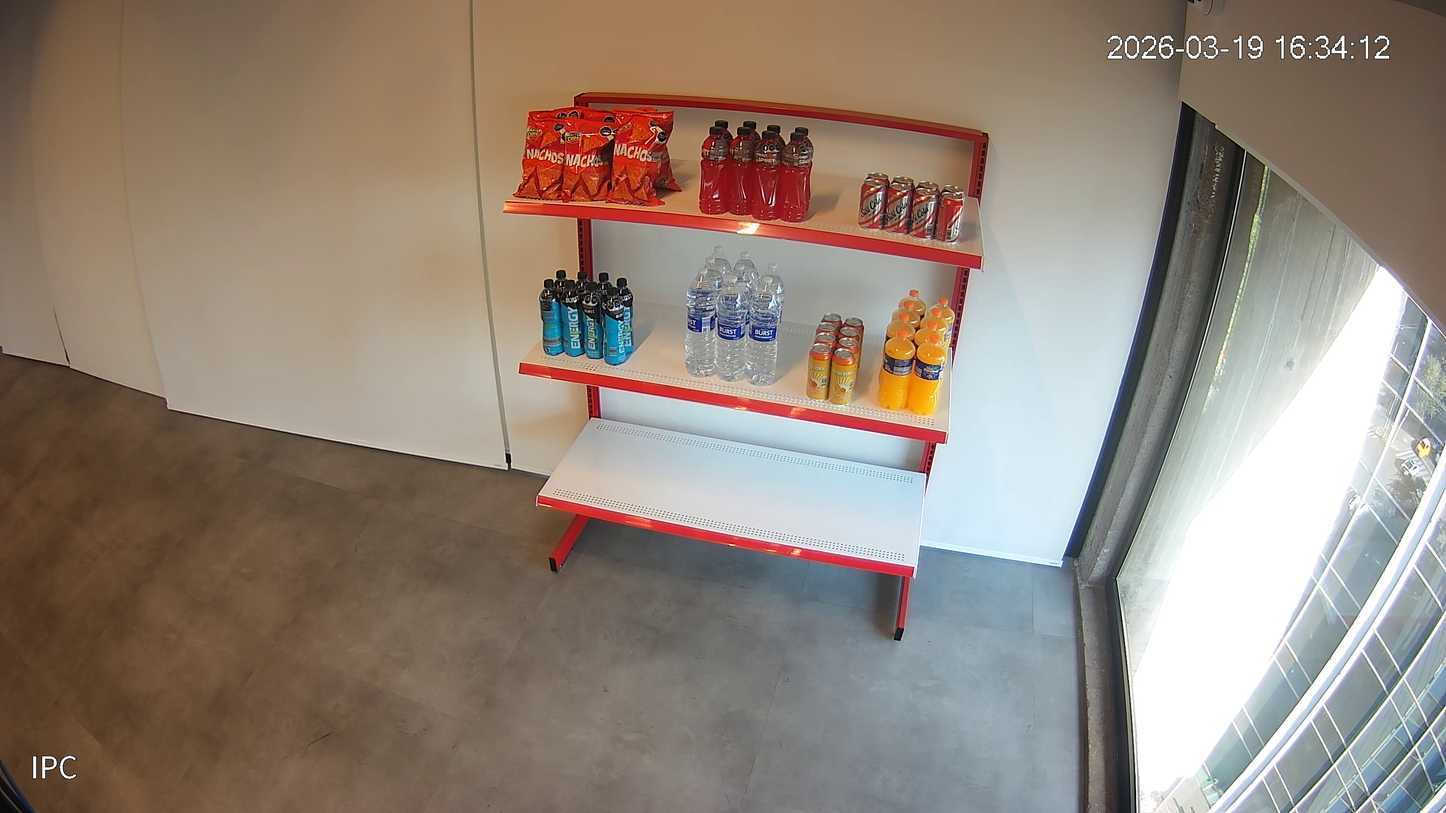agua_burst: (685, 268, 717, 377), (703, 257, 724, 300), (711, 246, 731, 280)
burst_energetica_roja: (779, 132, 811, 222), (699, 127, 729, 214), (743, 120, 761, 144)
burst_energy: (560, 280, 585, 357), (575, 272, 589, 298), (553, 270, 567, 294)
nachos_naturasol: (512, 112, 566, 199), (580, 107, 617, 123)
nebraska_mango: (842, 318, 864, 369), (837, 327, 860, 347), (816, 322, 838, 342), (821, 313, 842, 332)
sisi_cola: (858, 179, 887, 231), (940, 185, 966, 207), (915, 180, 940, 198)
sun_paradise_naranja: (908, 321, 944, 396), (919, 308, 949, 350), (884, 313, 916, 346), (892, 301, 920, 332)
